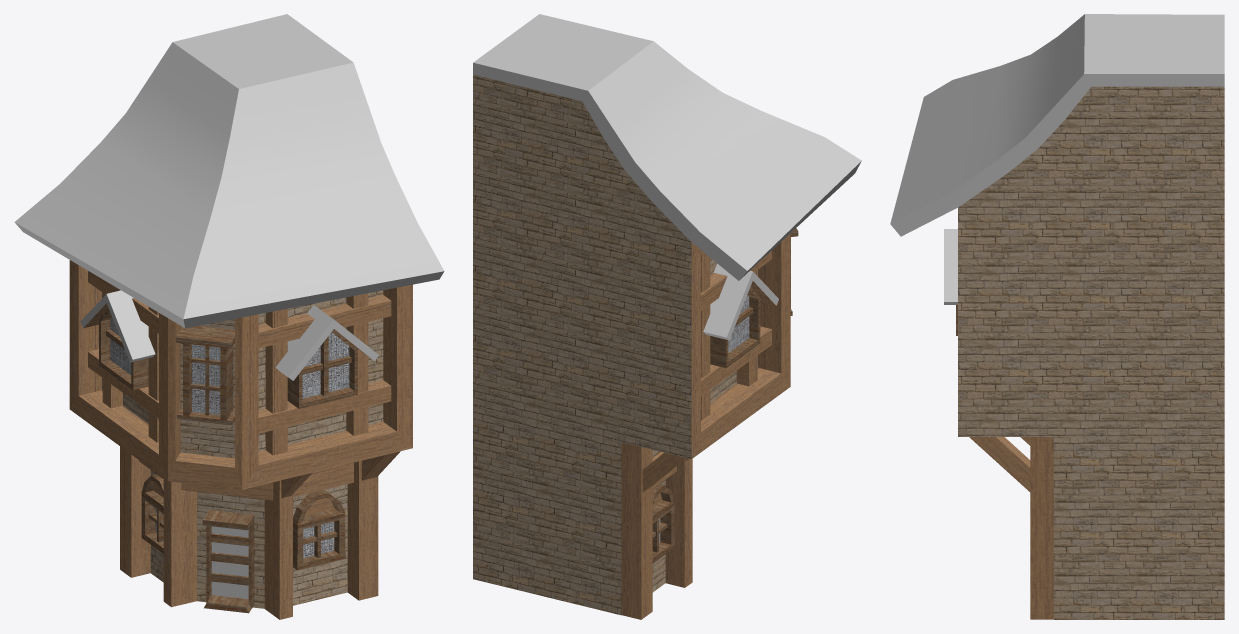
Rendered from townhouse_corner1_combined.fbx.
3 renders of one model, left to right at view 1: azimuth 30°, elevation 25°; view 2: azimuth 150°, elevation 25°; view 3: azimuth 270°, elevation 25°, orthographic. The views are drawn at different scales.
Visible parts, largest first — view 1: pCube34; view 2: pCube34; view 3: pCube34.
Boxes of the visible parts, left/top/right/bottom form: pCube34: left=14, top=14, right=444, bottom=619; pCube34: left=473, top=14, right=861, bottom=619; pCube34: left=890, top=14, right=1224, bottom=619.
Bounding box in the file's own units: 37.62 × 67.86 × 37.62.
